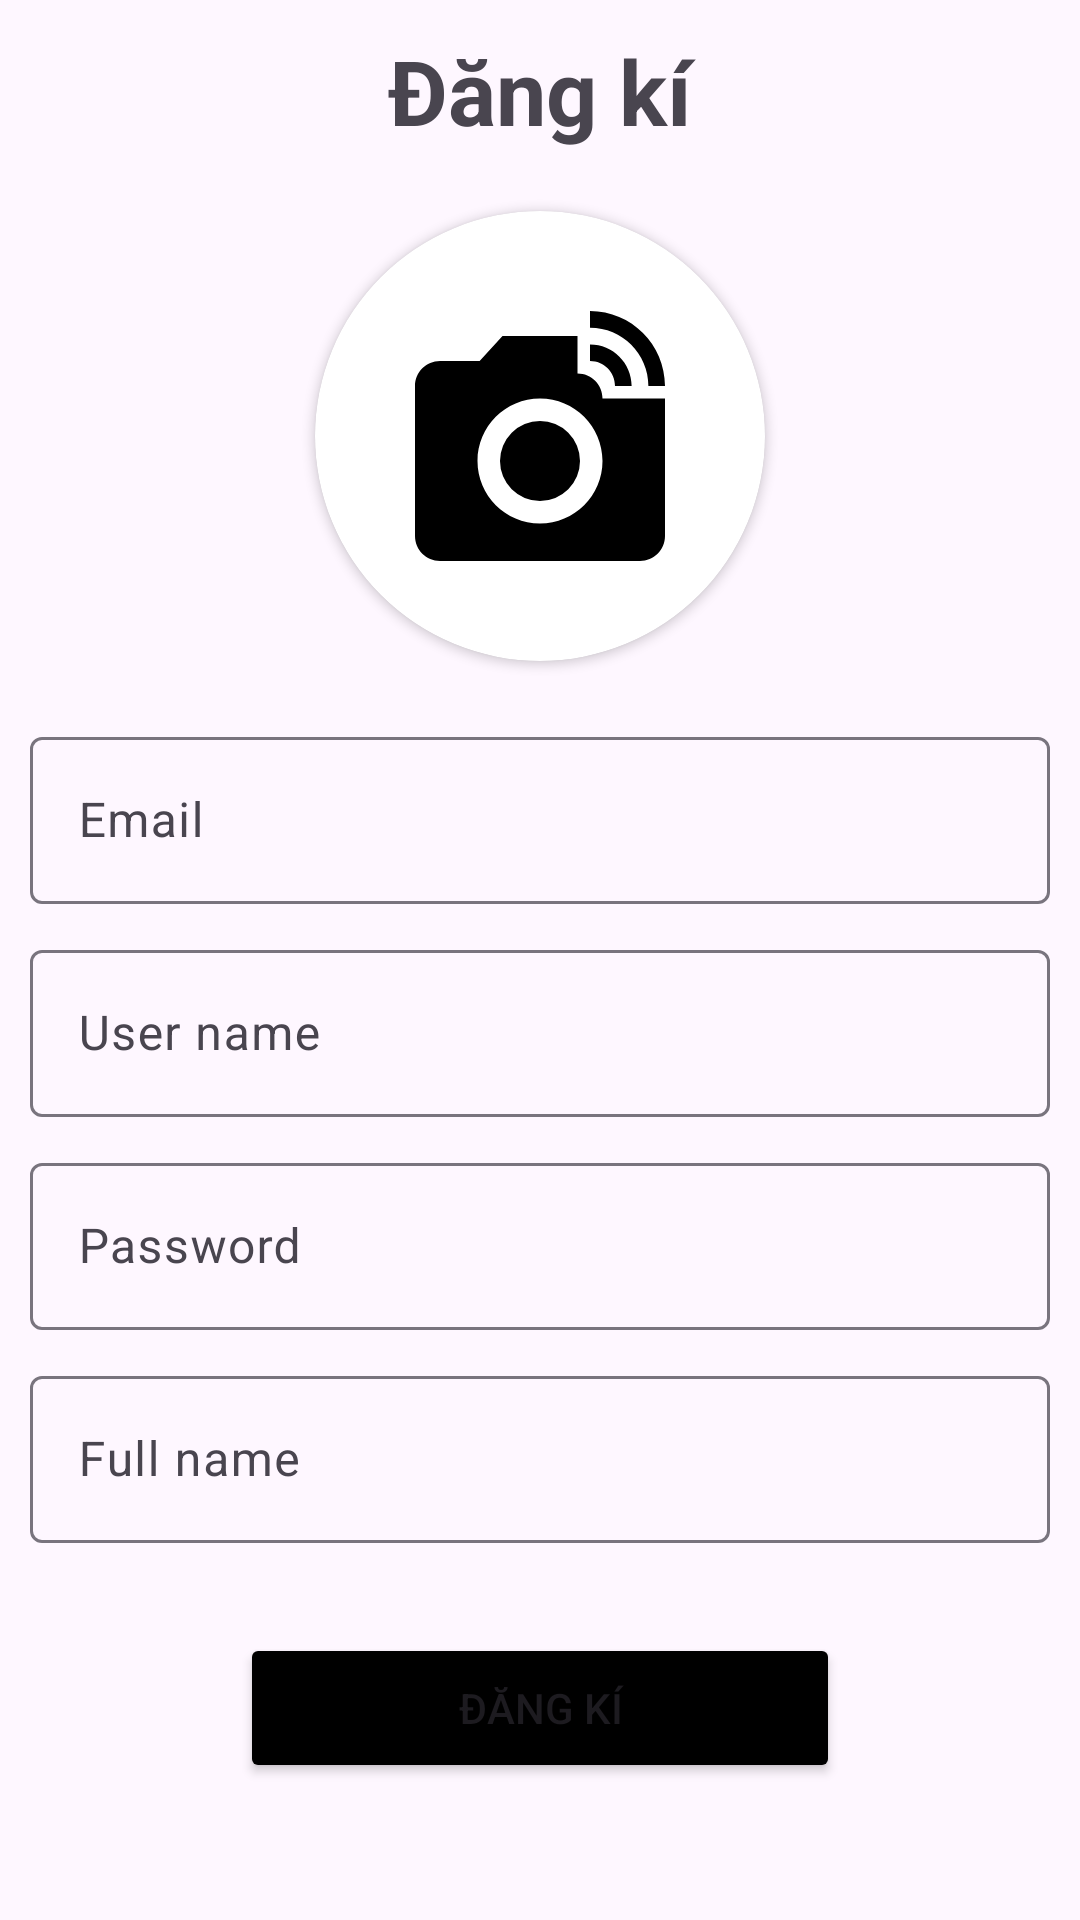

Named icons in this screenshot (1080×1920) and their bounding boxes, (x1=x1, y1=y1, x2=x2, y2=y2):
camera: (x1=415, y1=311, x2=665, y2=561)
